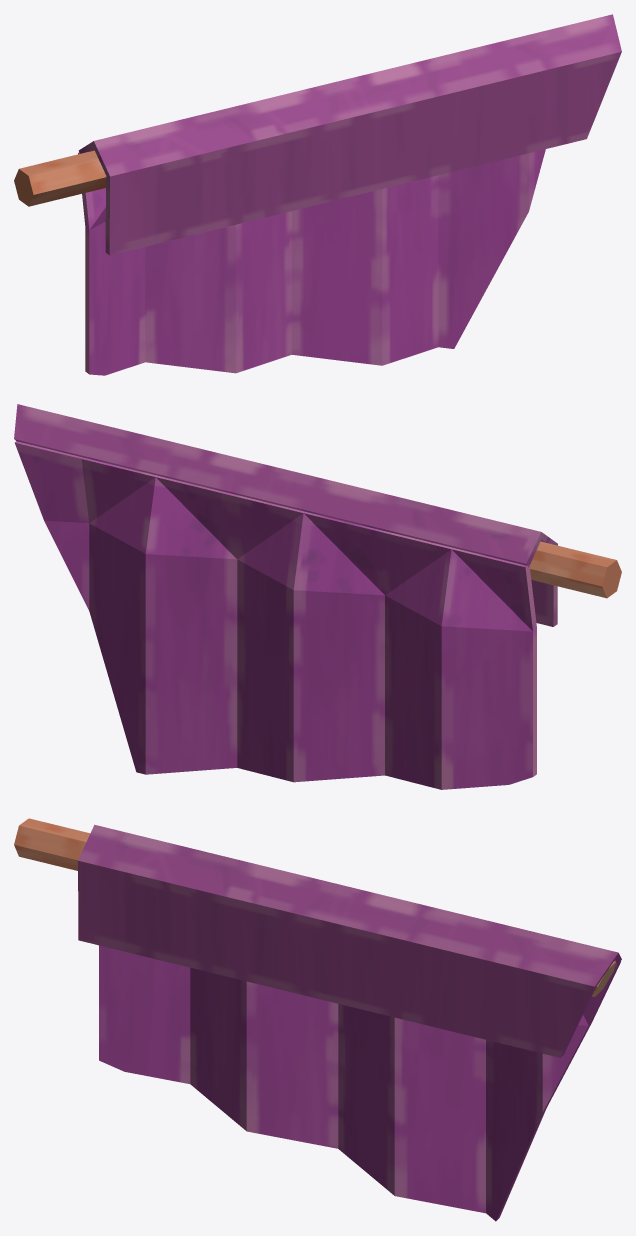
File: rack_plum_s00.fbx
3 renders of one model, top to bottom at view 1: azimuth 30°, elevation 25°; view 2: azimuth 150°, elevation 25°; view 3: azimuth 330°, elevation 25°, orthographic.
Parts seen in each view (by area): view 1: rack_plum_s00; view 2: rack_plum_s00; view 3: rack_plum_s00.
Part boxes in pixels (x1=…): rack_plum_s00: x1=14, y1=14, x2=621, y2=375; rack_plum_s00: x1=14, y1=404, x2=621, y2=789; rack_plum_s00: x1=14, y1=818, x2=621, y2=1221.
Size of the model in its own units: 5.9 by 3.01 by 0.7289.
